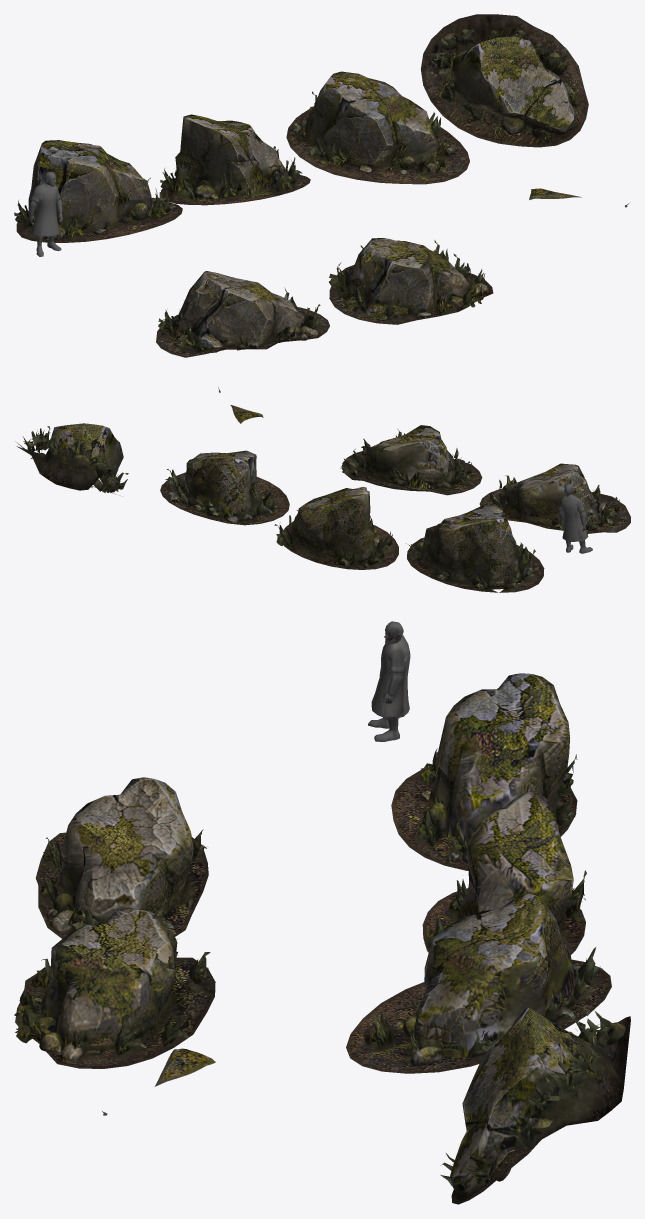
Rendered from asset_09_mossy_rock_sheet.glb.
The picture shows the model from 3 angles, top to bottom: view 1: azimuth 30°, elevation 25°; view 2: azimuth 150°, elevation 25°; view 3: azimuth 270°, elevation 25°; orthographic projection. The views are drawn at different scales.
Visible parts, largest first — view 1: ccddad01_34fb_4953_bab0_e591831271b5; view 2: ccddad01_34fb_4953_bab0_e591831271b5; view 3: ccddad01_34fb_4953_bab0_e591831271b5.
Boxes of the visible parts, x1,y1,x2,y2 form: ccddad01_34fb_4953_bab0_e591831271b5: [14, 14, 629, 357]; ccddad01_34fb_4953_bab0_e591831271b5: [15, 387, 630, 592]; ccddad01_34fb_4953_bab0_e591831271b5: [14, 621, 630, 1204].
Size of the model in its own units: 0.9995 by 0.1997 by 0.5845.
Materials: 1 (1 with a texture image).
